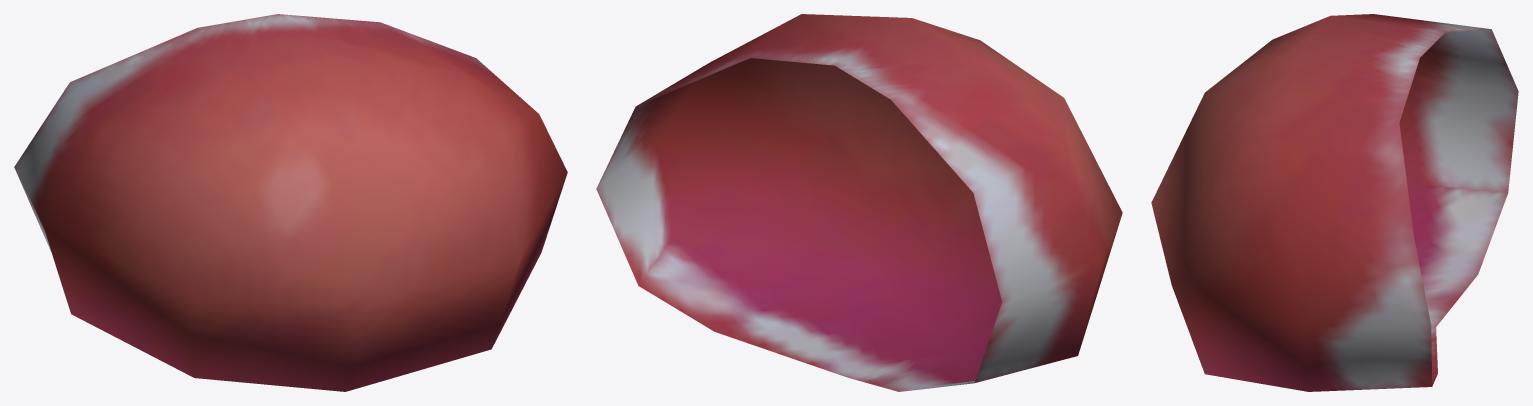
Rendered from Homeworld_Exterior_Common_Prop_Thing_SnowmanNose_04_Vo.fbx.
3 renders of one model, left to right at view 1: azimuth 30°, elevation 25°; view 2: azimuth 150°, elevation 25°; view 3: azimuth 270°, elevation 25°, orthographic. The views are drawn at different scales.
Parts seen in each view (by area): view 1: Homeworld_Exterior_Common_Prop_Thing_SnowmanNose_04_Vo; view 2: Homeworld_Exterior_Common_Prop_Thing_SnowmanNose_04_Vo; view 3: Homeworld_Exterior_Common_Prop_Thing_SnowmanNose_04_Vo.
Boxes of the visible parts, x1,y1,x2,y2 form: Homeworld_Exterior_Common_Prop_Thing_SnowmanNose_04_Vo: (14,14,567,391); Homeworld_Exterior_Common_Prop_Thing_SnowmanNose_04_Vo: (596,14,1122,391); Homeworld_Exterior_Common_Prop_Thing_SnowmanNose_04_Vo: (1151,14,1518,391).
Size of the model in its own units: 0.1854 by 0.1139 by 0.1287.
